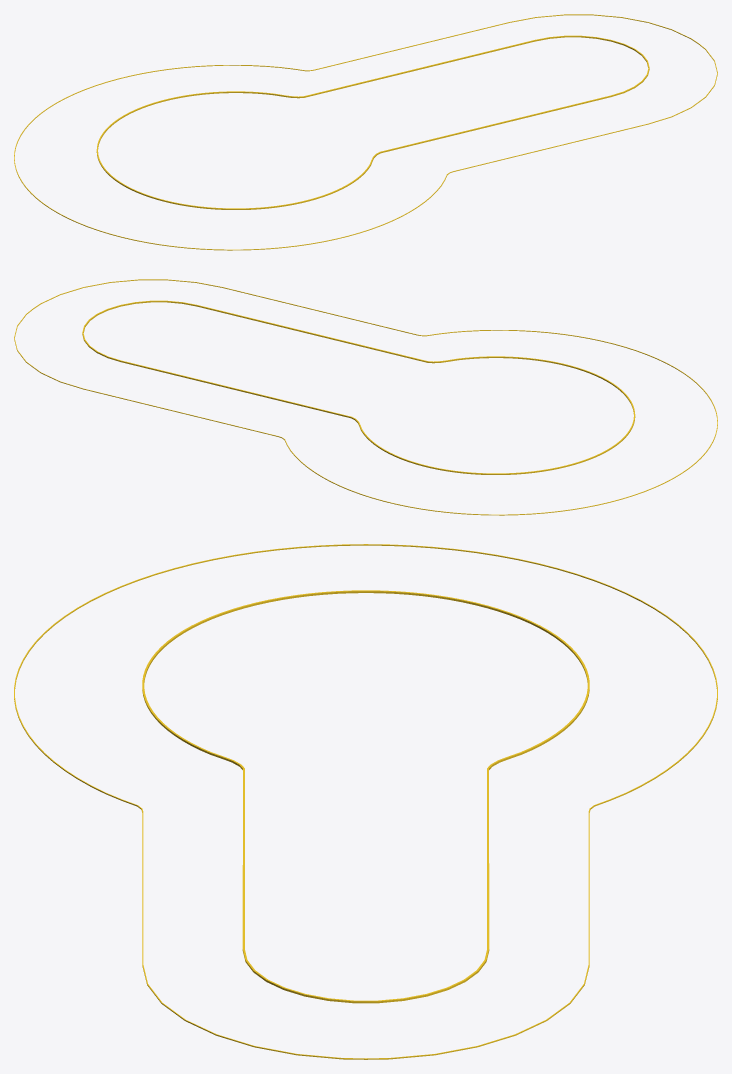
Rendered from CD_JZ_vr_floor_emi01.FBX.
The picture shows the model from 3 angles, top to bottom: view 1: azimuth 30°, elevation 25°; view 2: azimuth 150°, elevation 25°; view 3: azimuth 270°, elevation 25°; orthographic projection. The views are drawn at different scales.
Visible parts, largest first — view 1: CD_JZ_vr_floor_emi01; view 2: CD_JZ_vr_floor_emi01; view 3: CD_JZ_vr_floor_emi01.
Part boxes in pixels (left/top/right/bottom): CD_JZ_vr_floor_emi01: left=14, top=14, right=717, bottom=250; CD_JZ_vr_floor_emi01: left=14, top=279, right=717, bottom=515; CD_JZ_vr_floor_emi01: left=14, top=544, right=717, bottom=1059.
Size of the model in its own units: 2839 by 29.39 by 1641.
